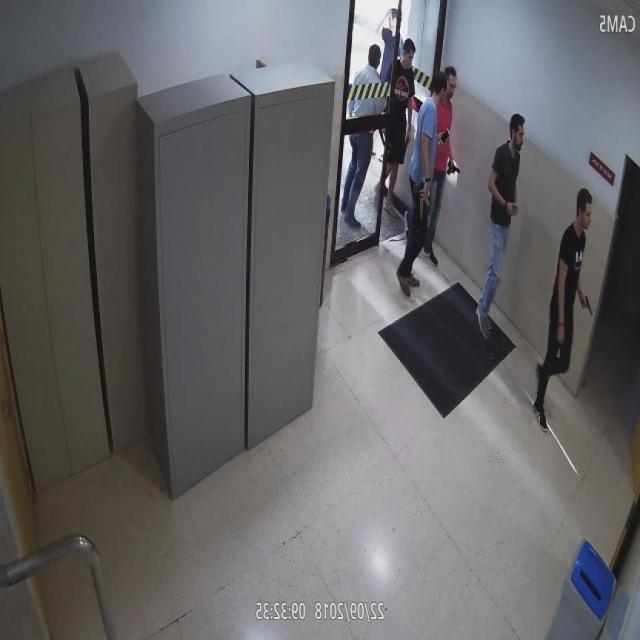pistol: (413, 178, 430, 209), (580, 290, 594, 320), (446, 160, 462, 180), (402, 130, 413, 153), (508, 199, 522, 216)
